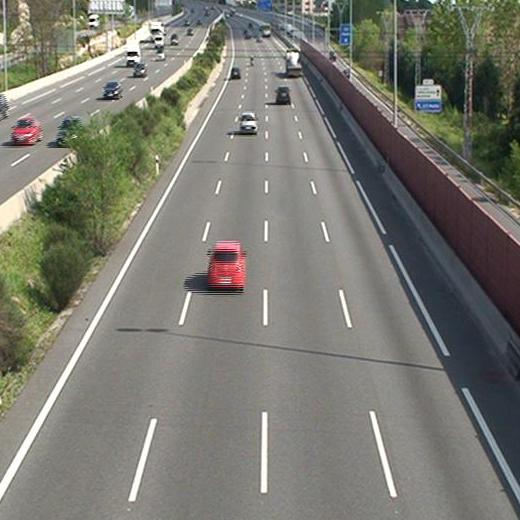car: (205, 242, 246, 290), (237, 112, 257, 132), (273, 85, 290, 104), (230, 66, 242, 79)
motorcycle: (248, 53, 256, 68)
truck: (284, 49, 302, 76)
